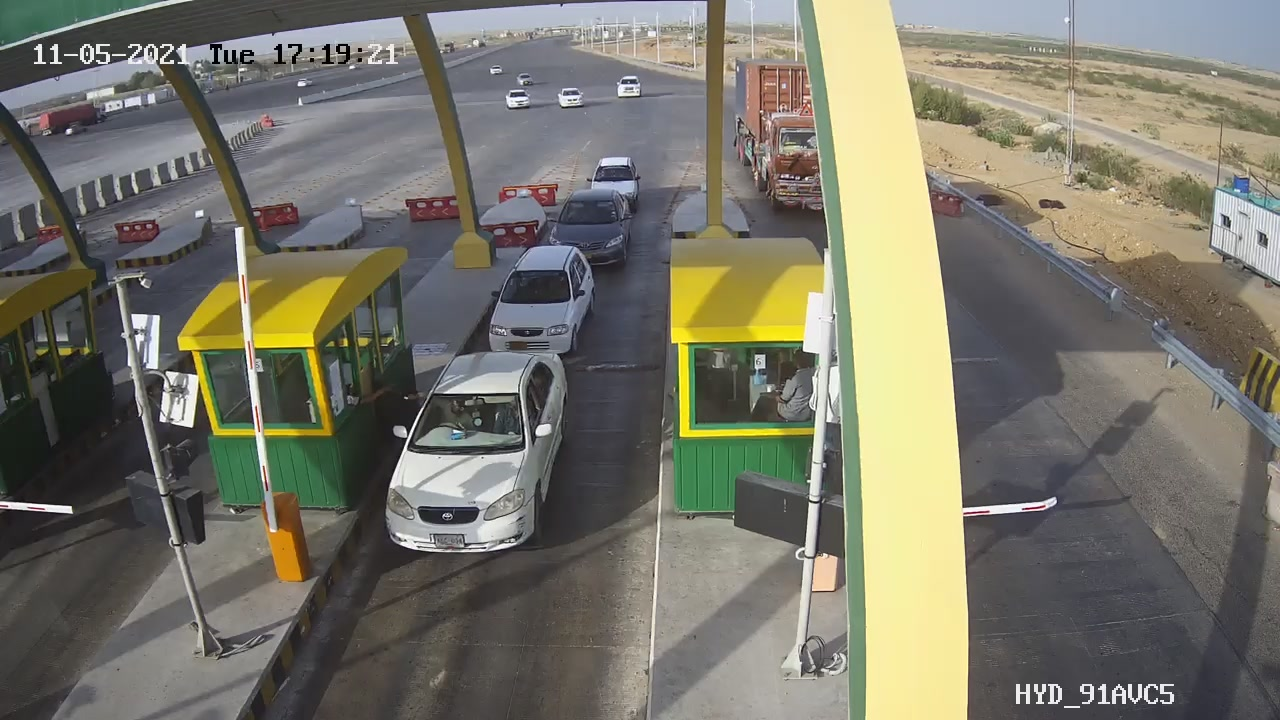F1: (368, 339, 585, 569), (478, 236, 604, 368), (534, 178, 647, 281)
